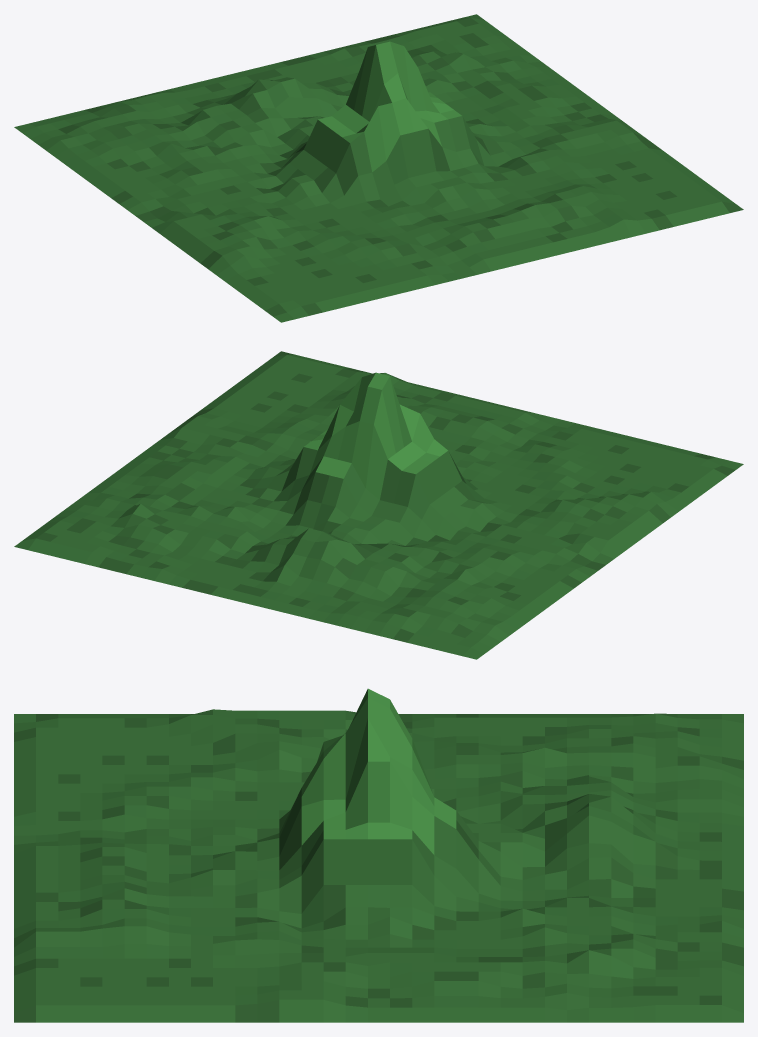
File: Terrain_4_Green.fbx
3 views of the same model, one above another, from view 1: azimuth 30°, elevation 25°; view 2: azimuth 150°, elevation 25°; view 3: azimuth 270°, elevation 25° (orthographic). The views are drawn at different scales.
Parts seen in each view (by area): view 1: Terrain_4_Green; view 2: Terrain_4_Green; view 3: Terrain_4_Green.
Boxes of the visible parts, x1=… form: Terrain_4_Green: x1=14, y1=14, x2=743, y2=322; Terrain_4_Green: x1=14, y1=351, x2=743, y2=659; Terrain_4_Green: x1=14, y1=688, x2=743, y2=1022.
Bounding box in the file's own units: 10000 × 2647 × 10000.
